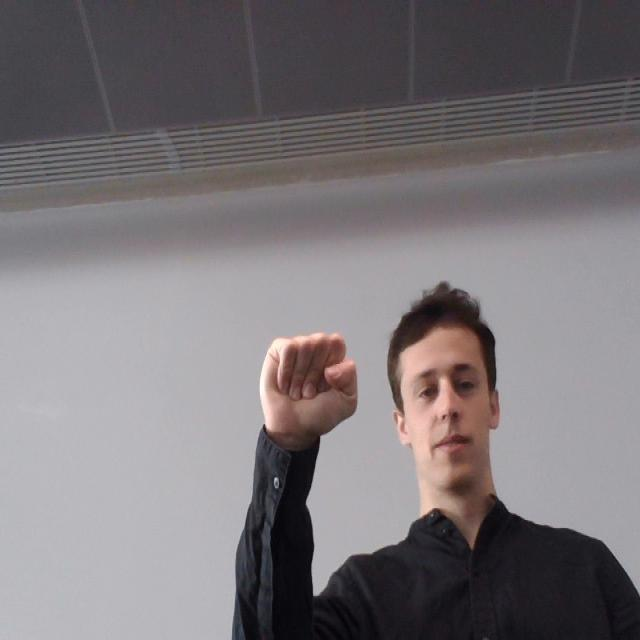stop: (254, 320, 365, 442)
